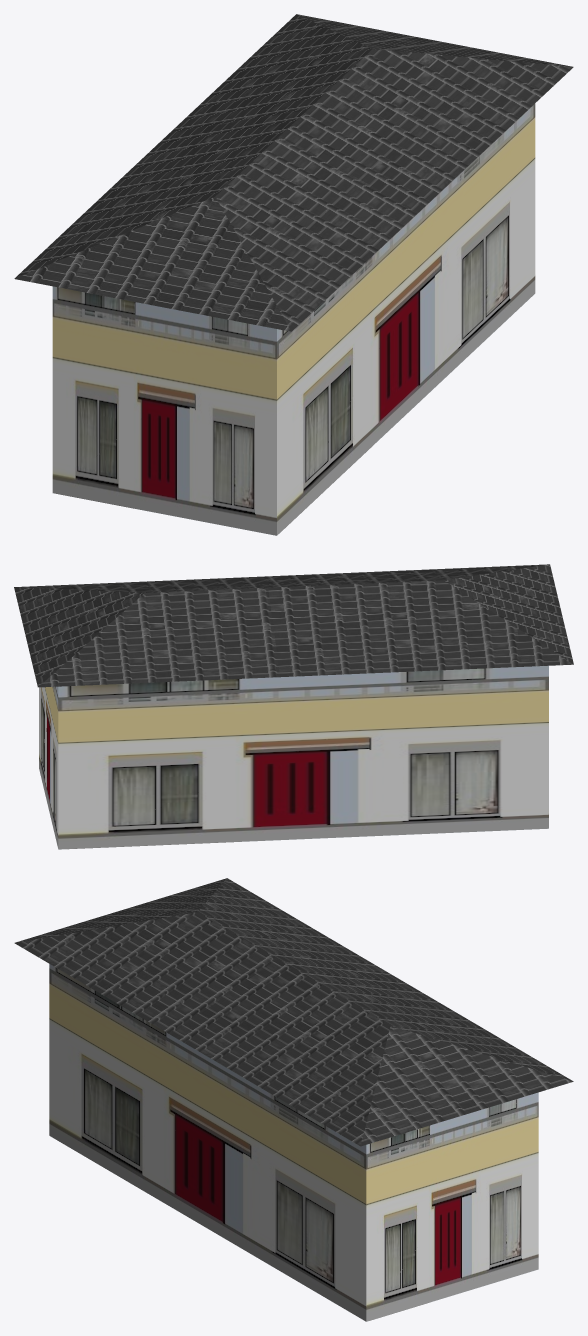
3 renders of one model, top to bottom at view 1: azimuth 30°, elevation 25°; view 2: azimuth 150°, elevation 25°; view 3: azimuth 270°, elevation 25°, orthographic. The views are drawn at different scales.
Parts seen in each view (by area): view 1: CityEngineMaterial_15_m, CityEngineMaterial_16_m; view 2: CityEngineMaterial_15_m, CityEngineMaterial_16_m; view 3: CityEngineMaterial_15_m, CityEngineMaterial_16_m.
Part boxes in pixels (left/top/right/bottom): CityEngineMaterial_15_m: left=52, top=103, right=535, bottom=535; CityEngineMaterial_16_m: left=14, top=14, right=573, bottom=331; CityEngineMaterial_15_m: left=39, top=665, right=548, bottom=849; CityEngineMaterial_16_m: left=14, top=564, right=573, bottom=687; CityEngineMaterial_15_m: left=49, top=964, right=538, bottom=1321; CityEngineMaterial_16_m: left=14, top=878, right=573, bottom=1146.
Size of the model in its own units: 23.69 by 9.61 by 20.88.
